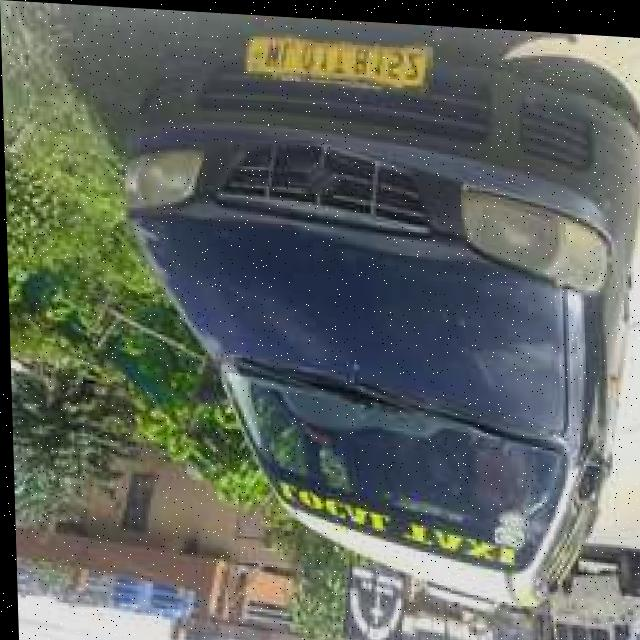plate: (244, 27, 433, 83)
